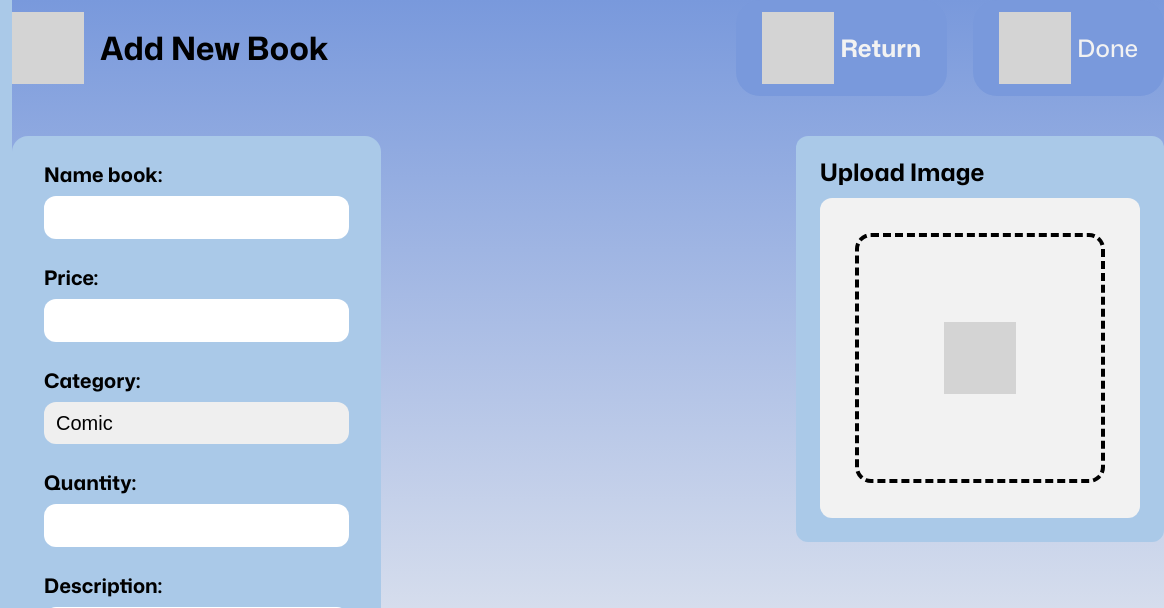
Test: Test CreateBook component › Hien thi loi khi nhap so luong am
This screenshot has width=1164, height=608.
Type "-5" into the number field with test id "input-quantity" at (196, 526), box [44, 504, 349, 547]
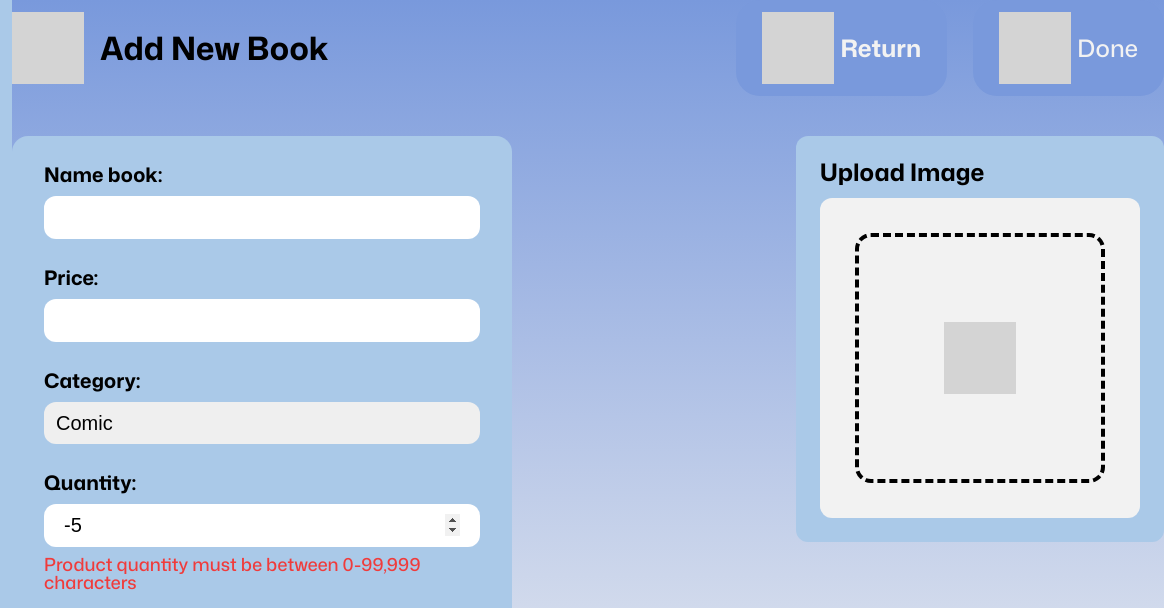
Expected: the text "Product quantity must be between 0-99,999 characters" is shown, [44, 555, 480, 591]
